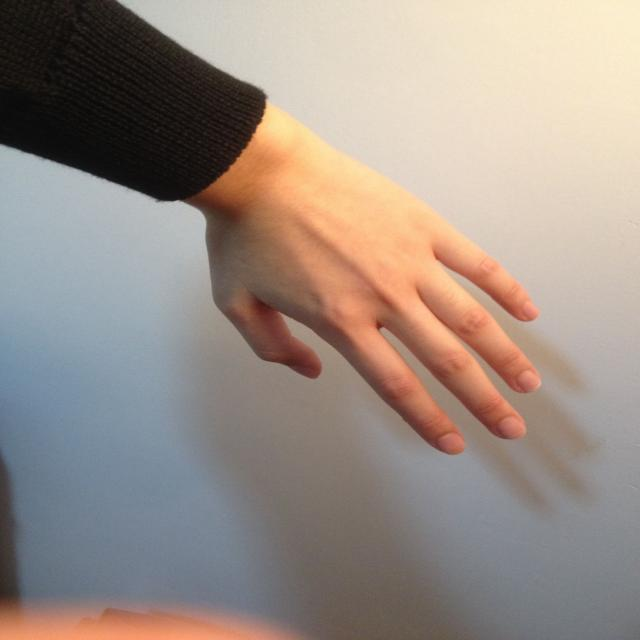bare_hand: (199, 118, 540, 456)
